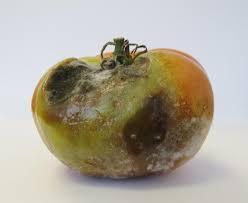tomato late blight: (32, 38, 216, 182)
